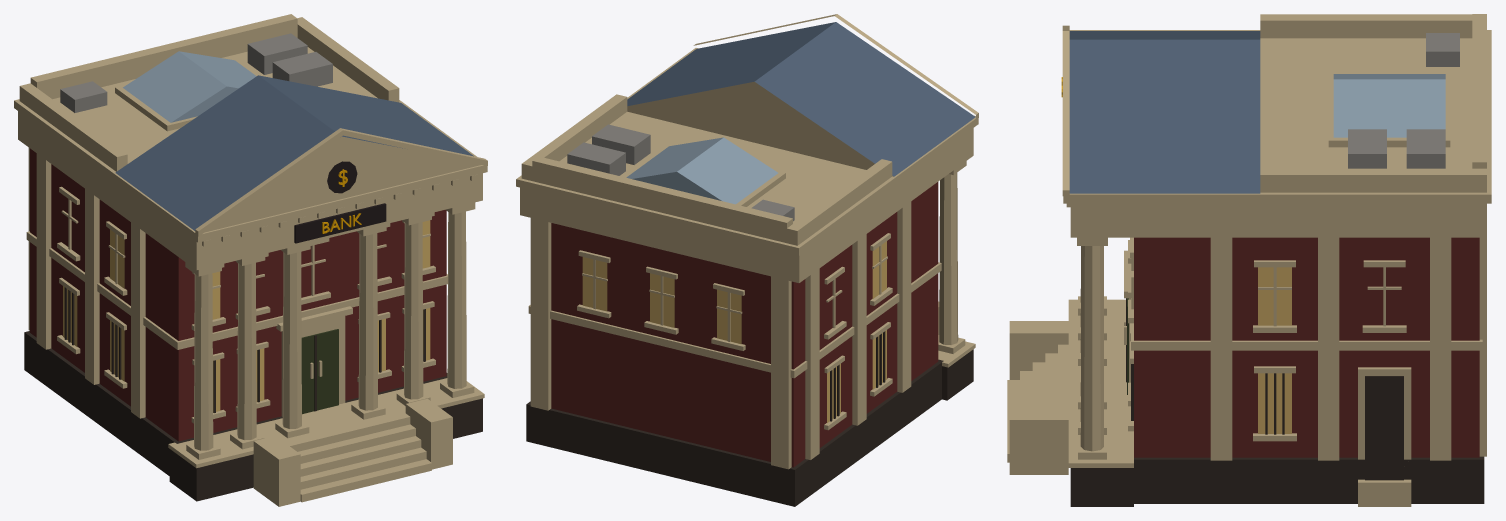
The model's file is banque_batiment.glb.
The picture shows the model from 3 angles, left to right: view 1: azimuth 30°, elevation 25°; view 2: azimuth 150°, elevation 25°; view 3: azimuth 270°, elevation 25°; orthographic projection. The views are drawn at different scales.
Visible parts, largest first — view 1: banque_batiment; view 2: banque_batiment; view 3: banque_batiment.
Part boxes in pixels (box(x1,y1,x2,y2)): banque_batiment: box(14, 14, 487, 506); banque_batiment: box(516, 14, 978, 506); banque_batiment: box(1007, 14, 1491, 506).
Size of the model in its own units: 8 by 8.94 by 9.95.
